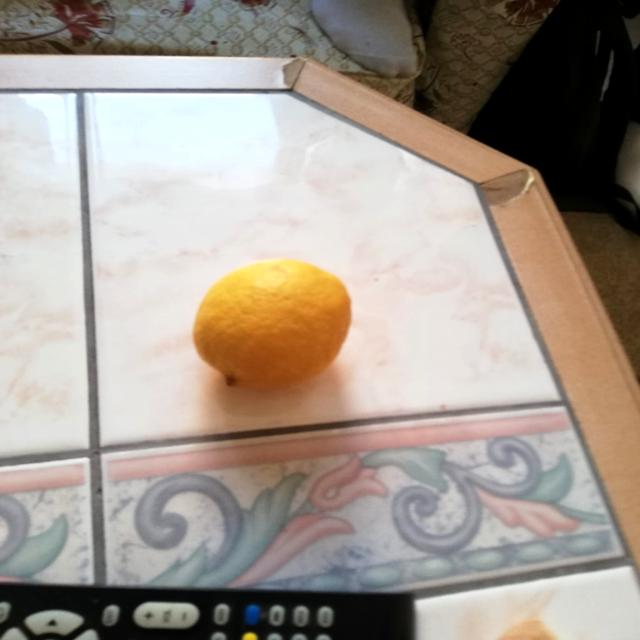lemon: (179, 254, 370, 397)
